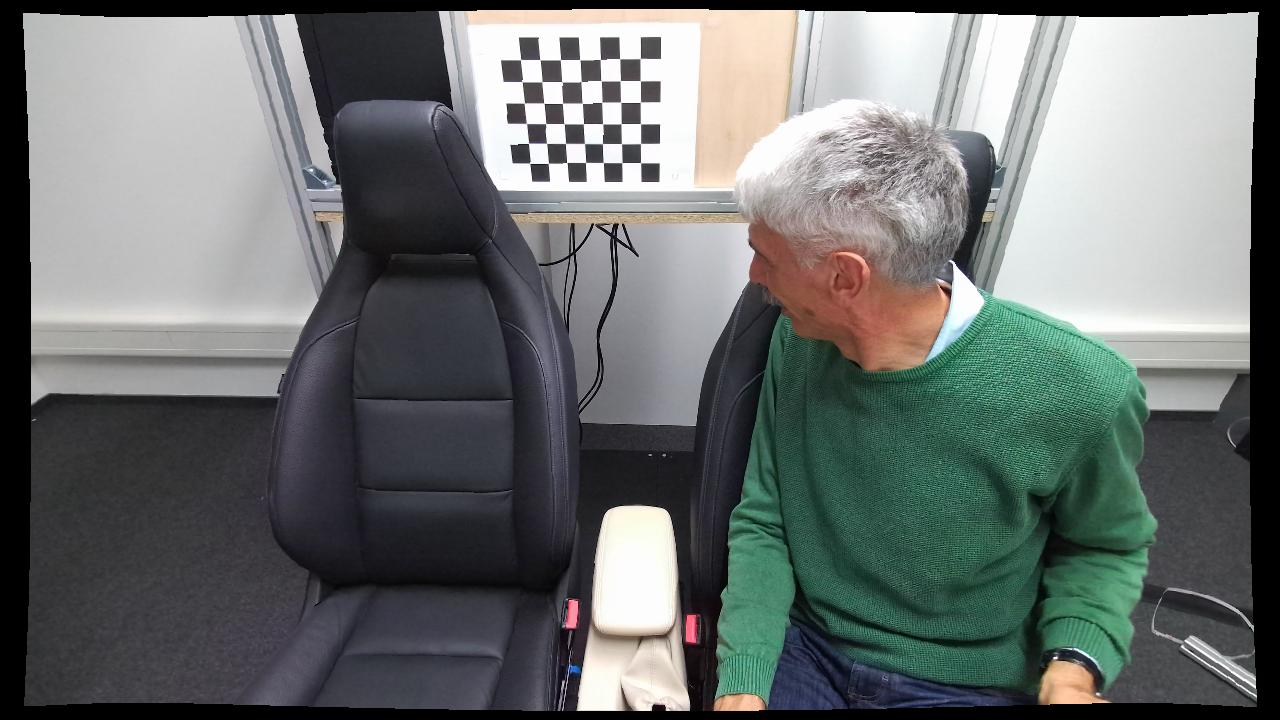Distracted: (695, 96, 1144, 713)
